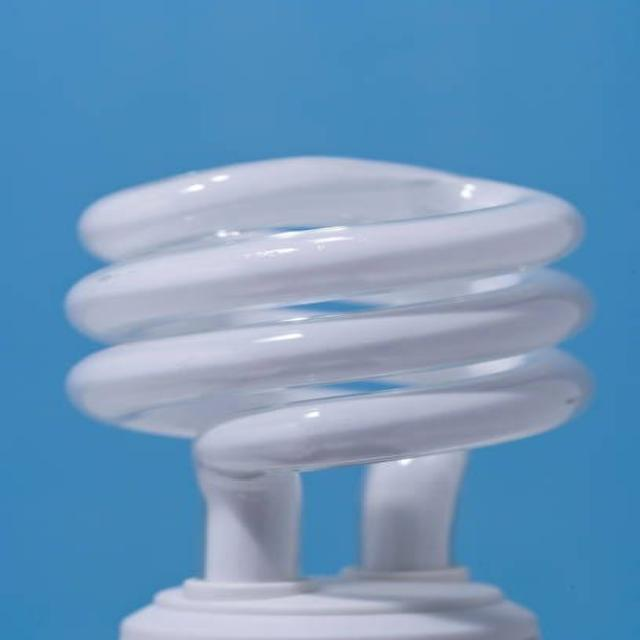electronic: (61, 154, 595, 639), (61, 153, 587, 345), (63, 265, 591, 440)
